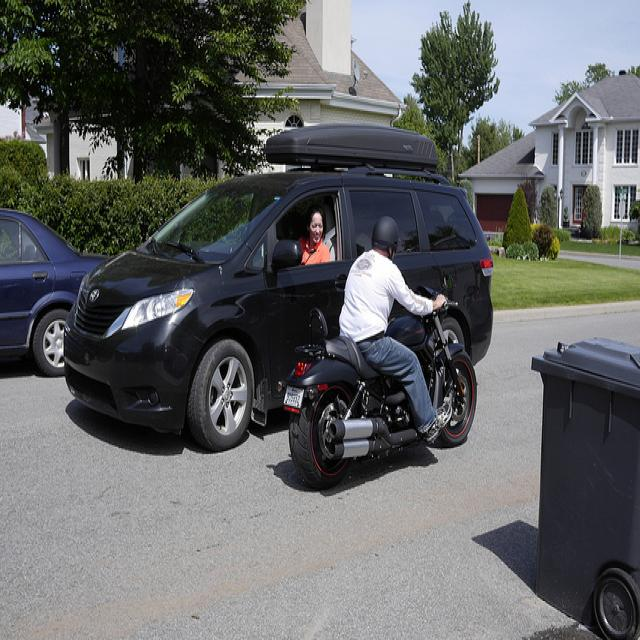motor: (283, 302, 478, 487)
